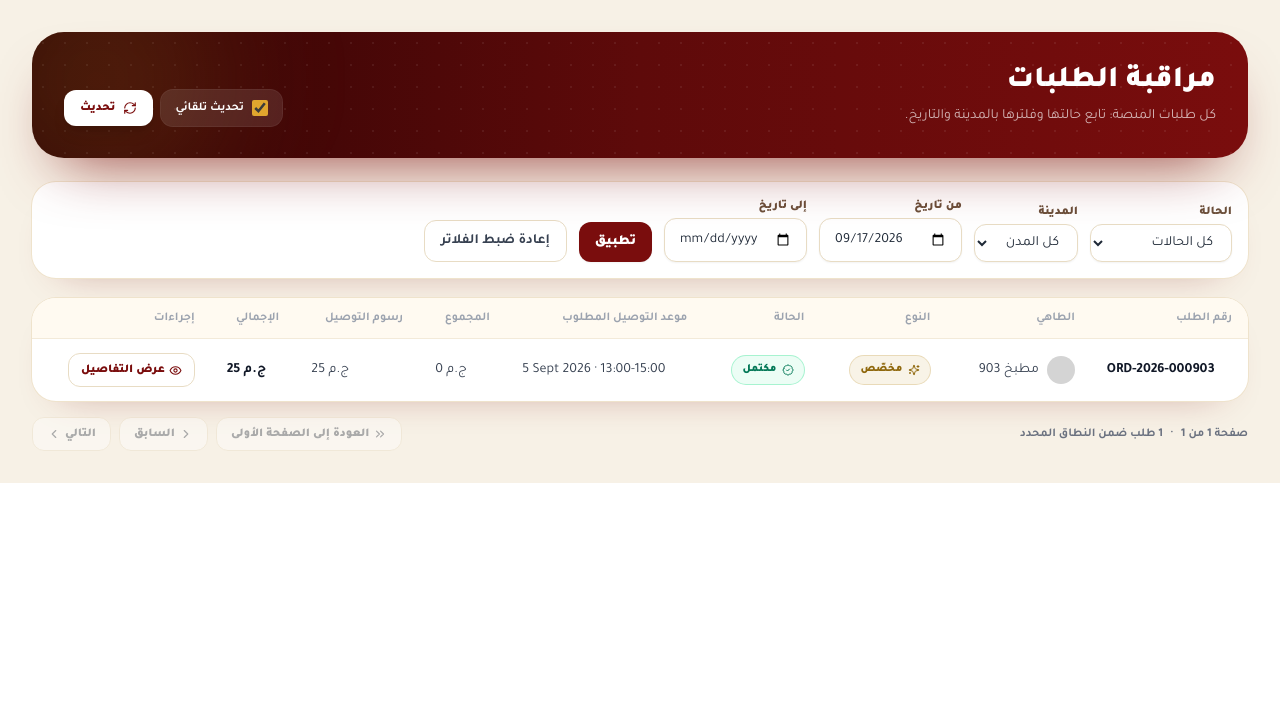
Test case: US3 — inspect one order in detail › AC2b: an unquoted custom order shows "no line items yet"
Expected: the text "ORD-2026-000903" is shown, [1091,338,1248,401]
Click the button "عرض التفاصيل": (131, 370) [68,353,195,387]
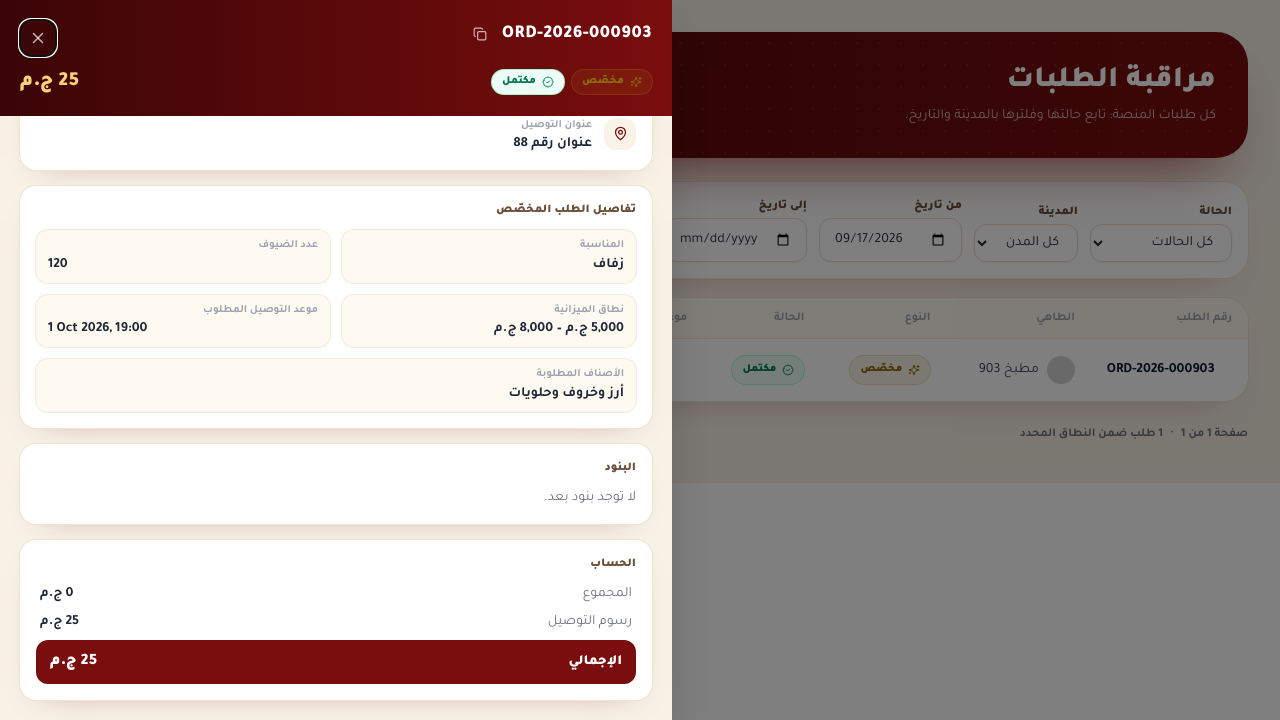
Expected: the text "لا توجد بنود بعد." is shown, [544,490,636,504]
